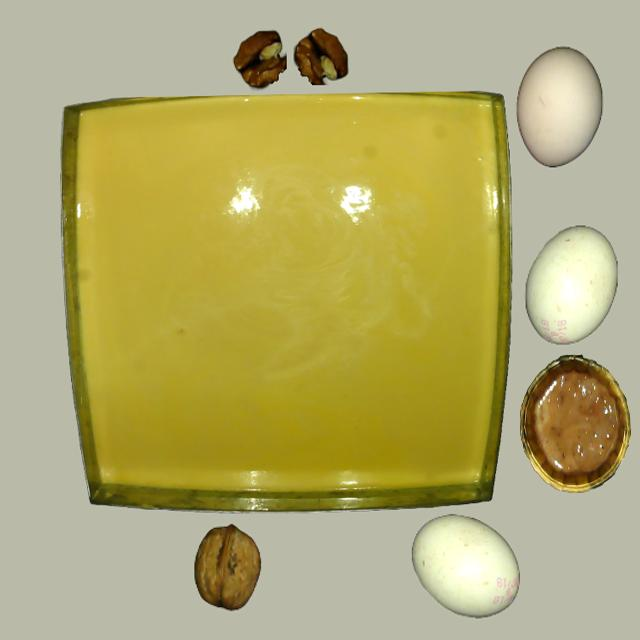Walnut: (194, 524, 260, 609)
